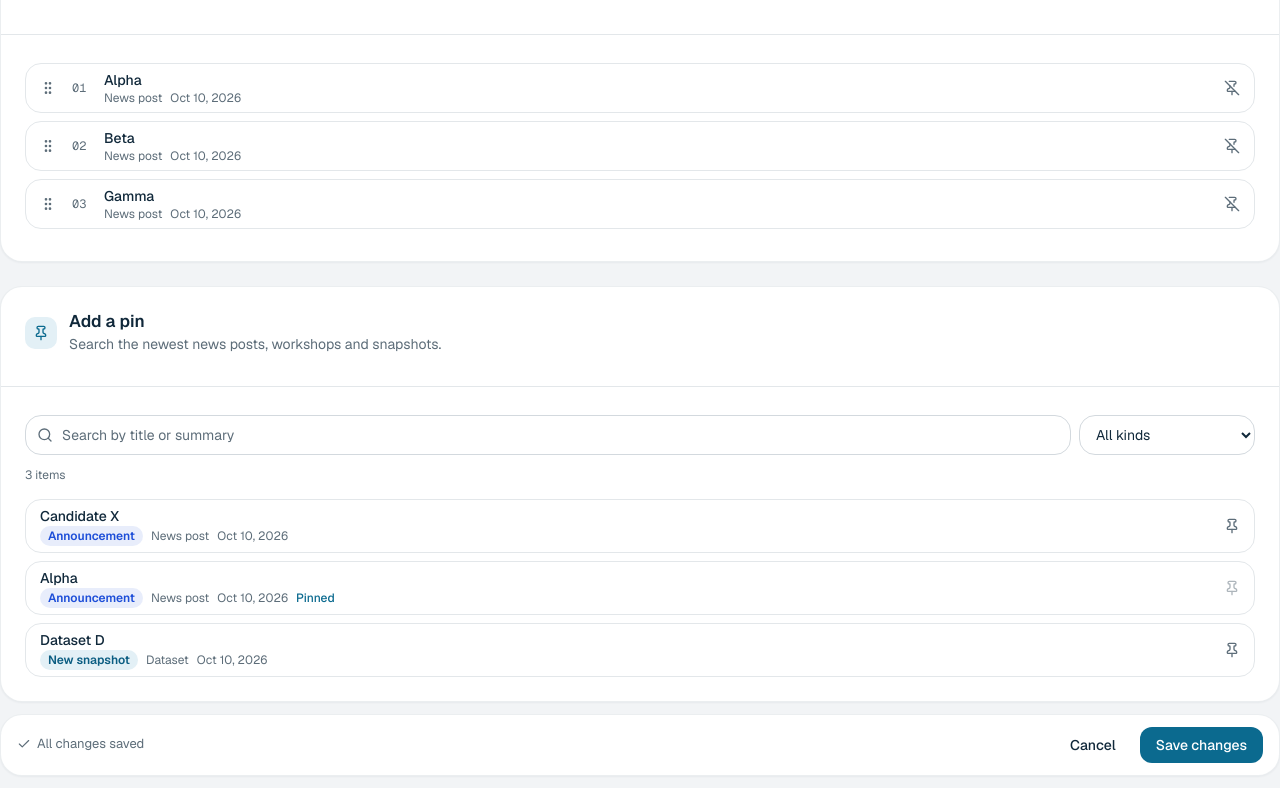
it: the Latest updates page › the picker › lists the candidates, and pins one to the end of the list
(page scrolled)
Click the button named "Pin Candidate X": (1232, 526) [1216,510,1248,542]
(page scrolled)
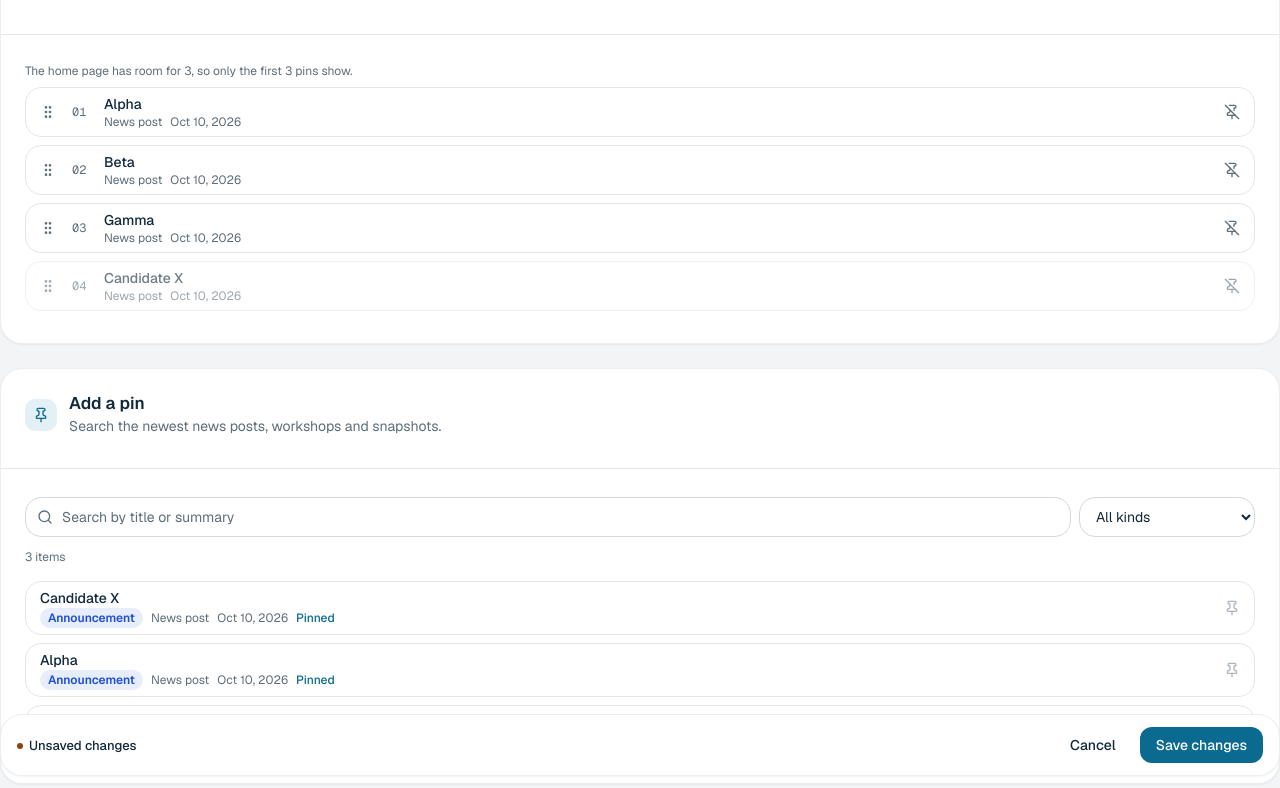
Expected: the list item "04 Candidate X News post Oct 10, 2026" is shown, [25,261,1255,311]
Expected: the button named "Pin Candidate X" is disabled, [1216,592,1248,624]
